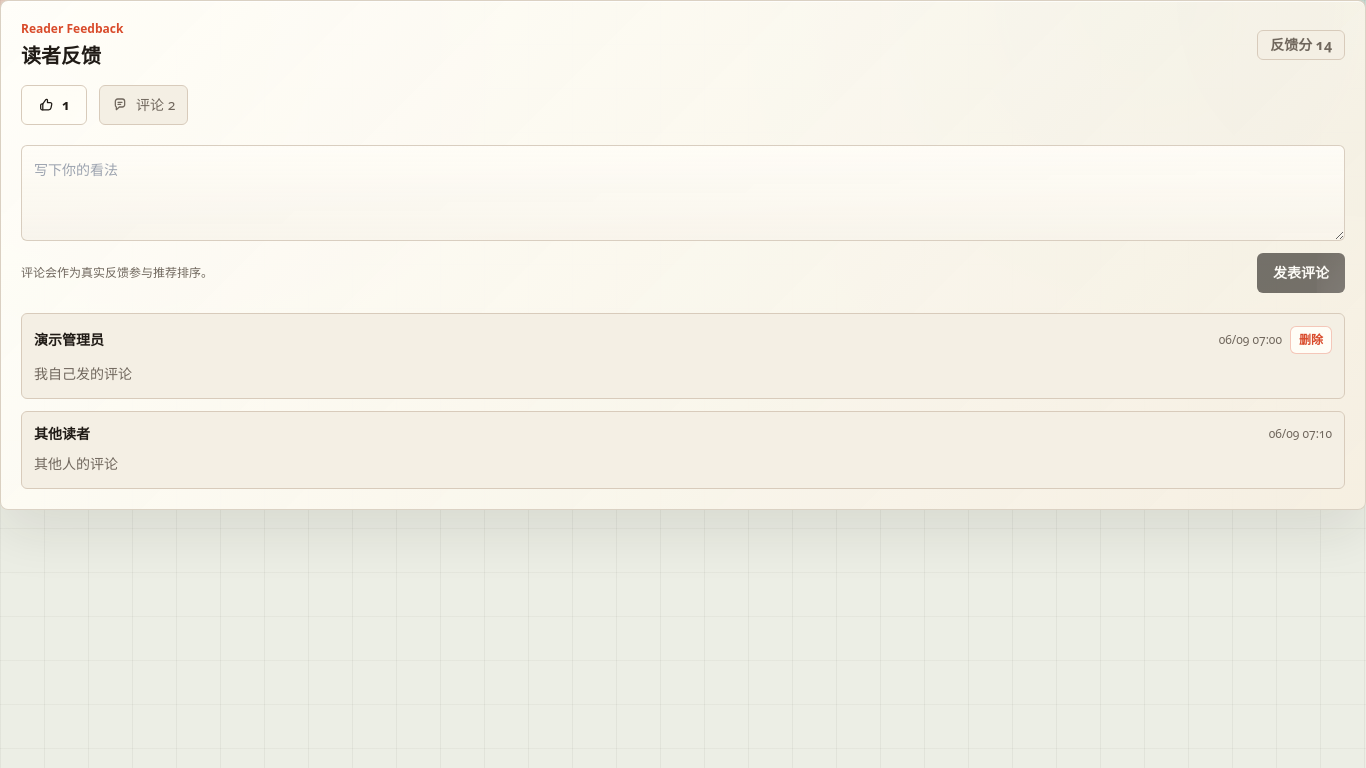
Test: post feedback panel › deletes a comment when the current user owns it
Click the button with aria-label "删除评论 我自己发的评论": (1311, 340) [1290,326,1332,354]
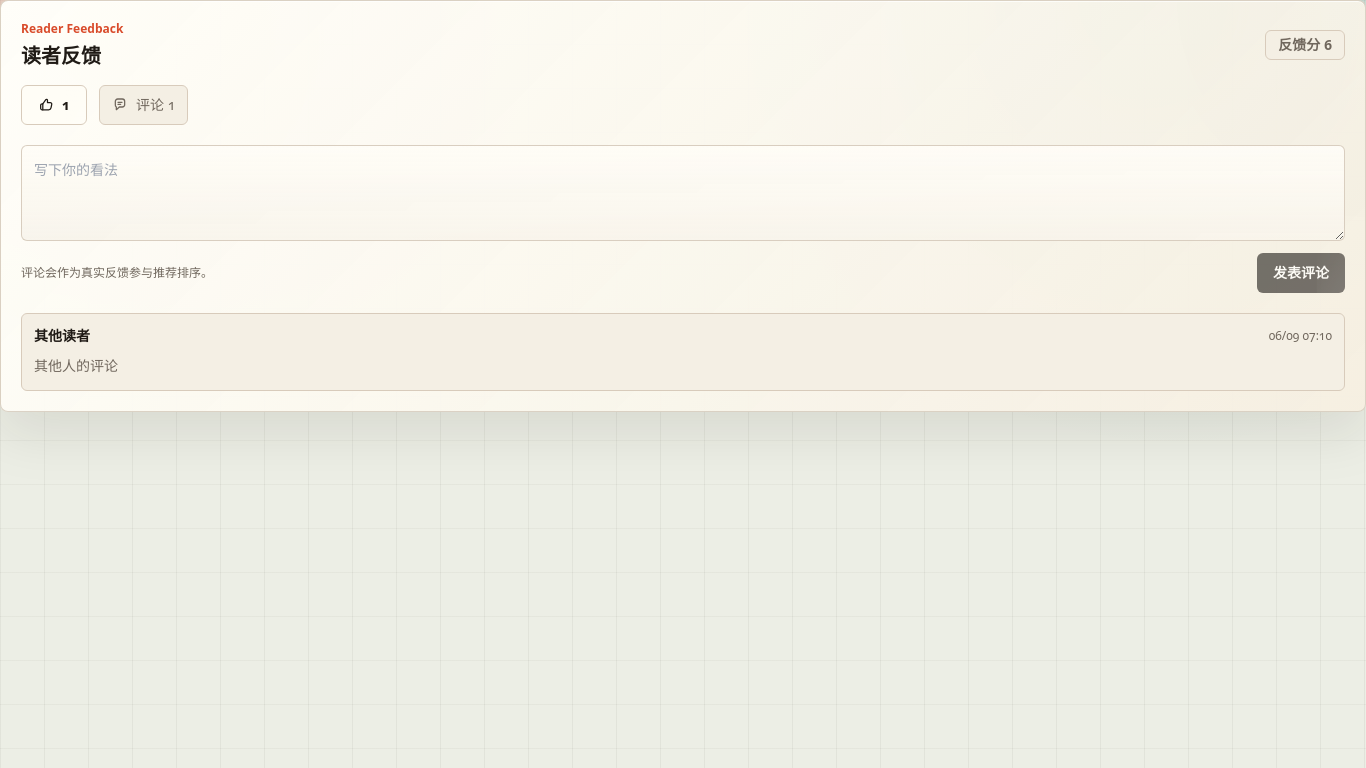
Result: the text "我自己发的评论" is gone
Result: the text "评论 1" is shown at [136,95,175,115]
Result: the text "反馈分 6" is shown at [1265,30,1345,60]
